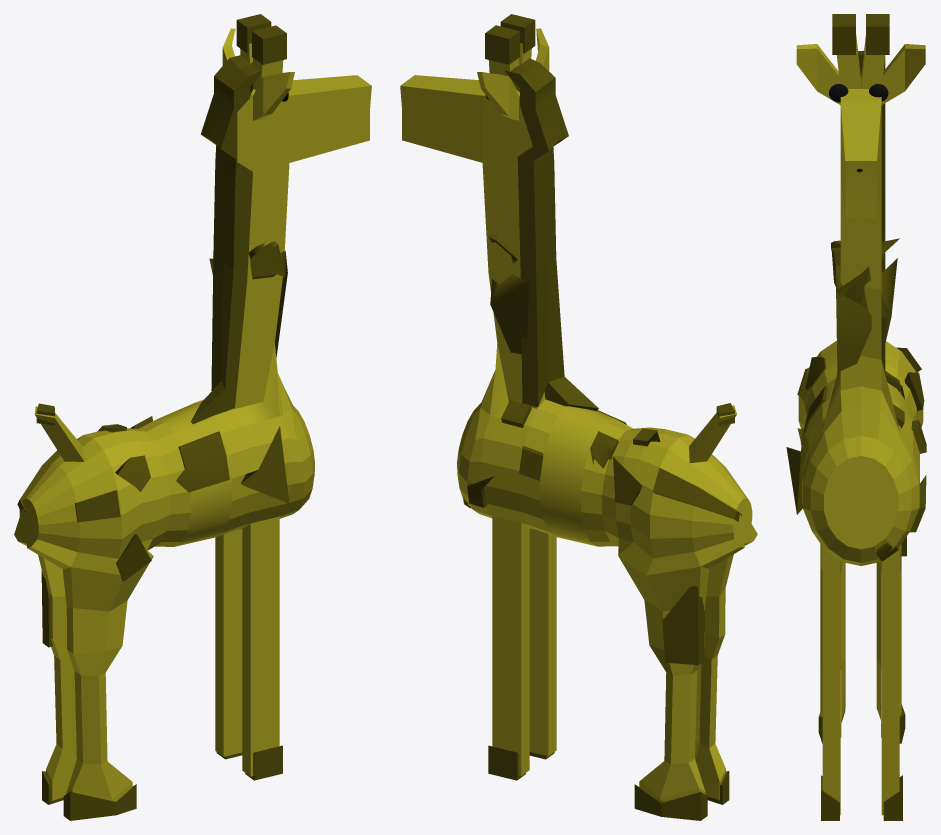
The model's file is girin.fbx.
3 views of the same model, side by side, from view 1: azimuth 30°, elevation 25°; view 2: azimuth 150°, elevation 25°; view 3: azimuth 270°, elevation 25° (orthographic). The views are drawn at different scales.
Visible parts, largest first — view 1: pCylinder14, pCylinder15; view 2: pCylinder14, pCylinder15; view 3: pCylinder14, pCylinder15.
Boxes of the visible parts, bbox=[...] form: pCylinder14: bbox=[14, 28, 371, 801]; pCylinder15: bbox=[17, 14, 289, 820]; pCylinder14: bbox=[400, 28, 757, 801]; pCylinder15: bbox=[463, 14, 741, 820]; pCylinder14: bbox=[796, 34, 925, 815]; pCylinder15: bbox=[786, 14, 926, 820].
Size of the model in its own units: 8.54 by 17.51 by 2.78.
